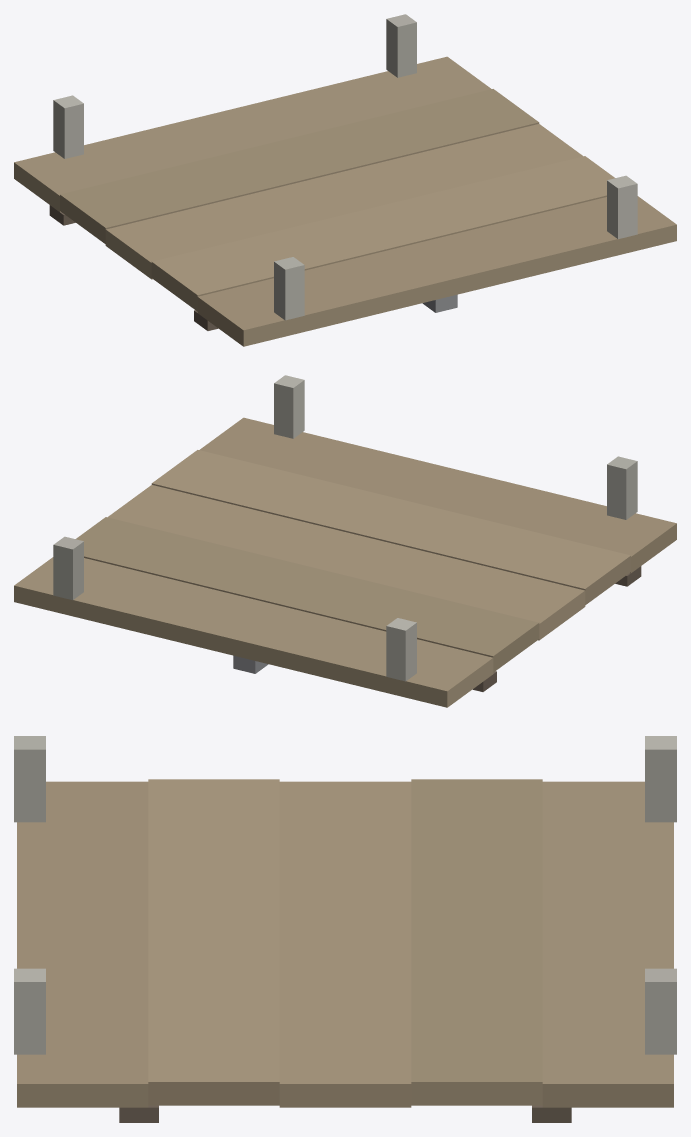
The model's file is bridge_junction.glb.
3 renders of one model, top to bottom at view 1: azimuth 30°, elevation 25°; view 2: azimuth 150°, elevation 25°; view 3: azimuth 270°, elevation 25°, orthographic. The views are drawn at different scales.
Parts seen in each view (by area): view 1: bridge_junction_planks, bridge_junction_posts; view 2: bridge_junction_planks, bridge_junction_posts; view 3: bridge_junction_planks, bridge_junction_posts, bridge_junction_stringers.
Part boxes in pixels (x1,y1,x2,y2): bridge_junction_planks: (14,56,676,346); bridge_junction_posts: (53,14,637,320); bridge_junction_planks: (14,417,676,707); bridge_junction_posts: (53,375,637,681); bridge_junction_planks: (17,779,673,1107); bridge_junction_posts: (14,736,676,1054); bridge_junction_stringers: (119,1105,571,1122).
Bounding box in the file's own units: 9.37 × 1.95 × 8.68.
